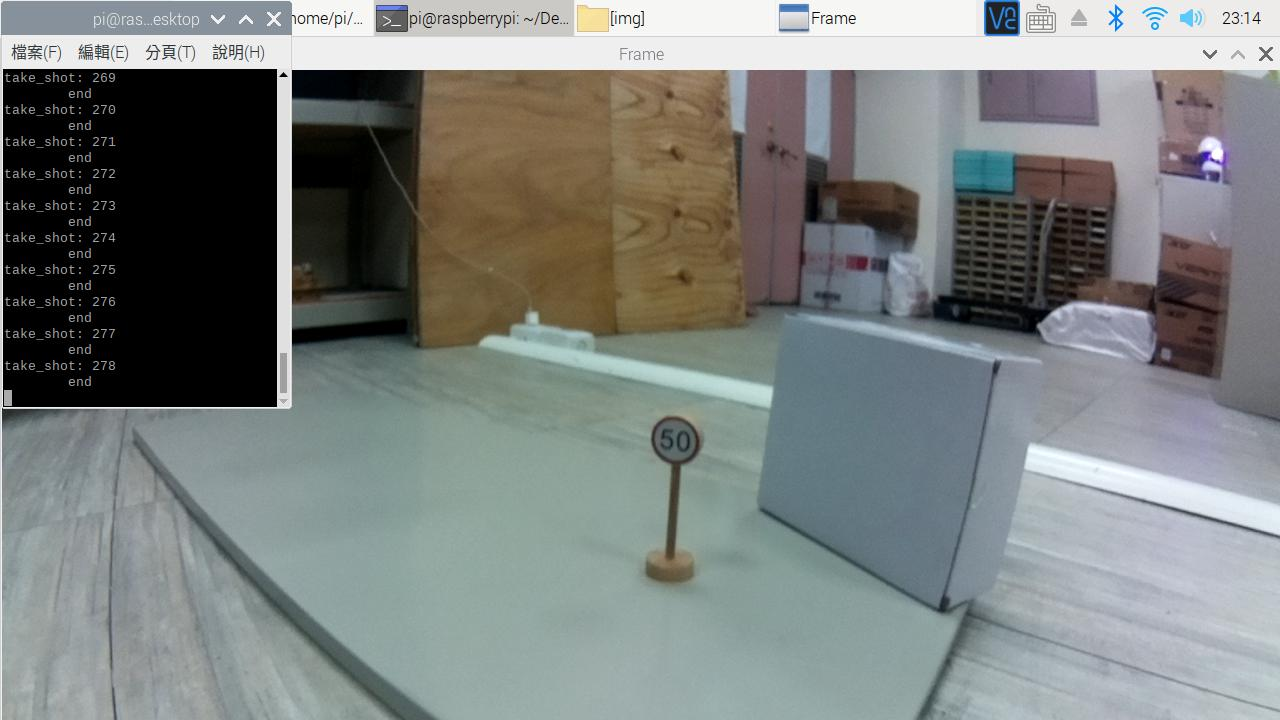Speed50: (639, 411, 711, 483)
